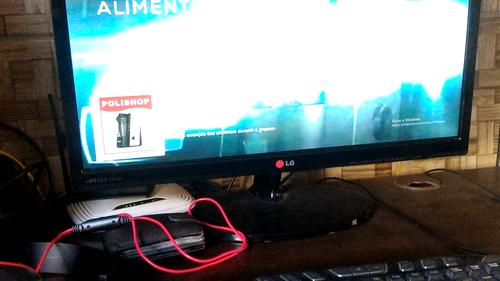Polishop #1: (89, 94, 166, 162)
